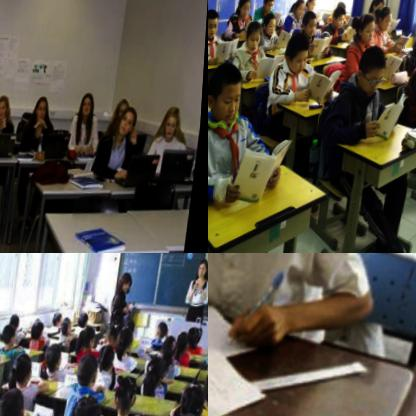head: (208, 64, 247, 128), (354, 50, 393, 101), (282, 32, 317, 80), (113, 372, 143, 416), (75, 352, 103, 393), (179, 377, 208, 416), (0, 385, 33, 416), (70, 391, 110, 416), (10, 351, 36, 388), (162, 106, 185, 144), (353, 15, 378, 47), (97, 343, 118, 381), (43, 342, 67, 373), (120, 109, 141, 142), (145, 356, 167, 387), (245, 23, 265, 54), (374, 8, 396, 35), (76, 328, 98, 354), (33, 95, 52, 123), (116, 327, 135, 355), (208, 8, 224, 39), (81, 92, 98, 120), (118, 271, 134, 299), (118, 99, 135, 124), (1, 324, 19, 347), (302, 15, 319, 39), (32, 319, 49, 343), (0, 91, 13, 122), (104, 322, 120, 347), (264, 14, 280, 38), (163, 339, 179, 361), (178, 331, 194, 353), (7, 309, 23, 330), (156, 322, 170, 345), (334, 11, 348, 33), (60, 316, 74, 338), (194, 259, 208, 281), (237, 0, 253, 19), (371, 0, 387, 18), (294, 1, 308, 21), (52, 309, 66, 329), (189, 328, 203, 348), (263, 0, 276, 15), (78, 311, 89, 327), (337, 4, 349, 18), (306, 0, 317, 12)
